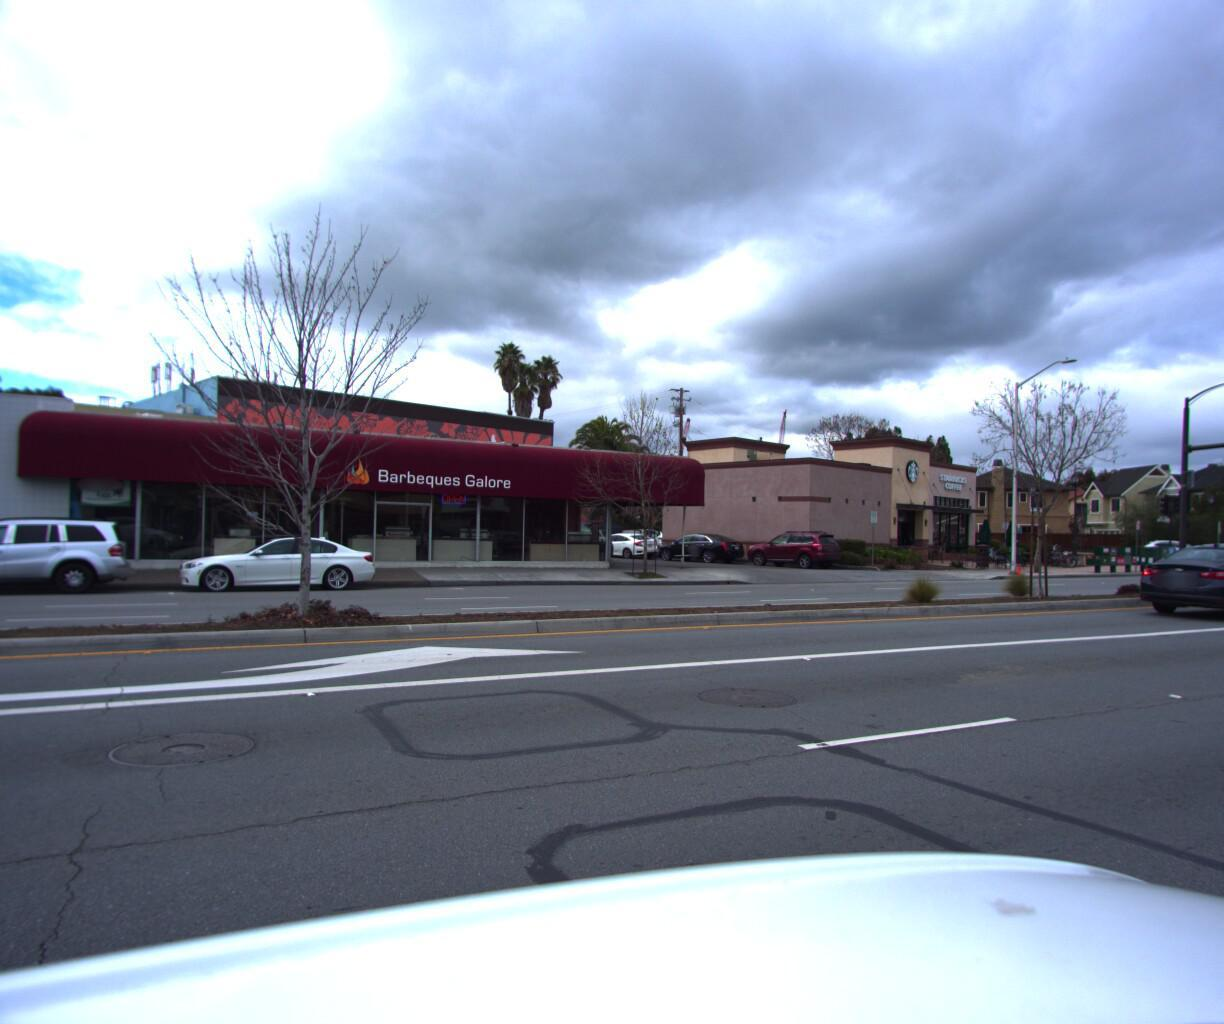car: (177, 529, 379, 591), (0, 513, 135, 595), (1133, 535, 1224, 618), (744, 527, 845, 565), (657, 531, 749, 561)
